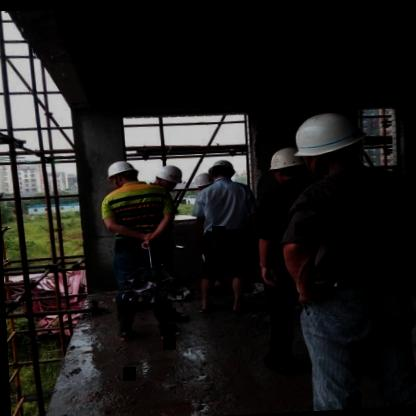helmet: (286, 104, 372, 178), (258, 142, 308, 191), (101, 153, 138, 192), (150, 164, 183, 192), (208, 157, 236, 183), (190, 170, 214, 196)
